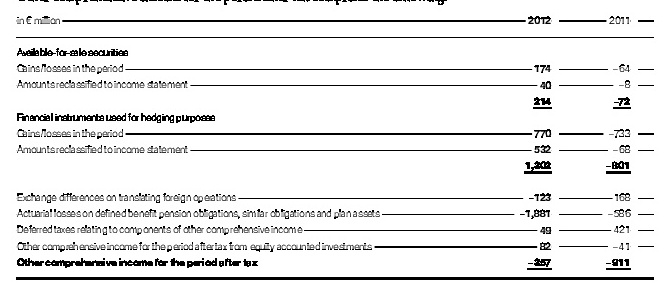table: (0, 0, 666, 295)
